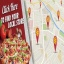pizza: (1, 37, 32, 64)
